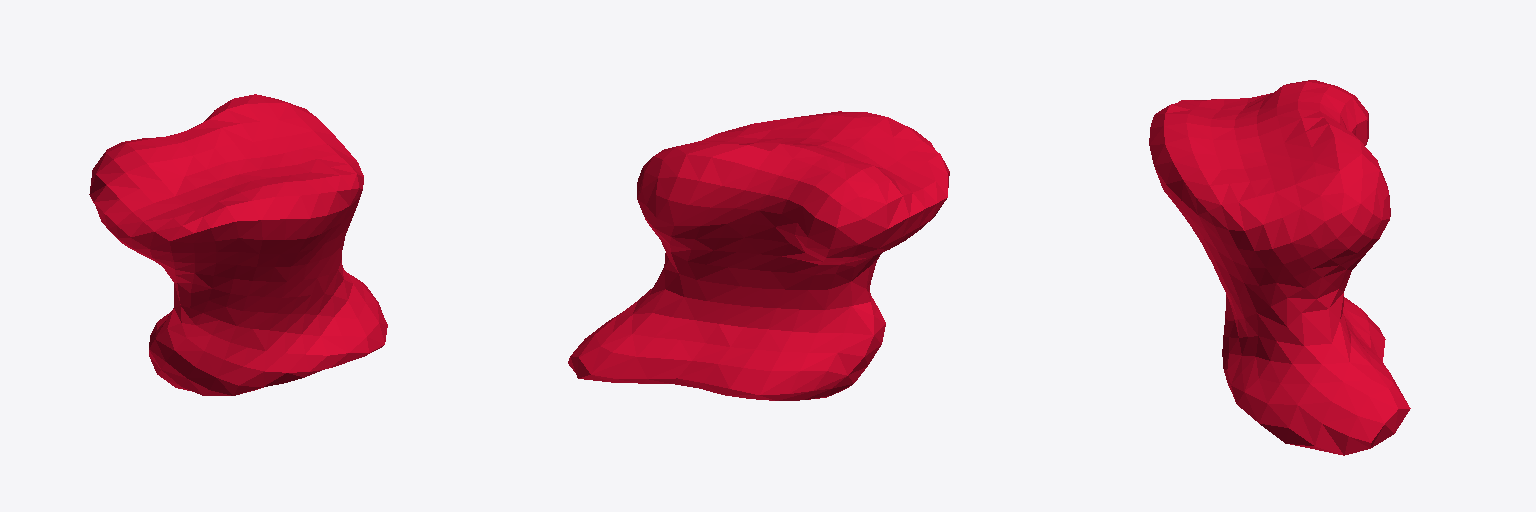
The model's file is MiddlePhalanx_2.obj.
The picture shows the model from 3 angles: view 1: azimuth 30°, elevation 25°; view 2: azimuth 150°, elevation 25°; view 3: azimuth 270°, elevation 25°; orthographic projection.
Visible parts, largest first — view 1: Object_0MiddlePhalanx_2; view 2: Object_0MiddlePhalanx_2; view 3: Object_0MiddlePhalanx_2.
Boxes of the visible parts, box(x1,y1,x2,y2) form: Object_0MiddlePhalanx_2: box(89, 94, 387, 395); Object_0MiddlePhalanx_2: box(568, 111, 949, 400); Object_0MiddlePhalanx_2: box(1149, 80, 1410, 455).
Size of the model in its own units: 13.17 by 10.56 by 9.62.